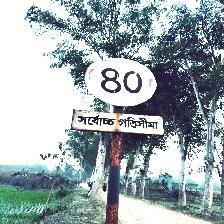Speed-limit: (74, 57, 162, 137)
